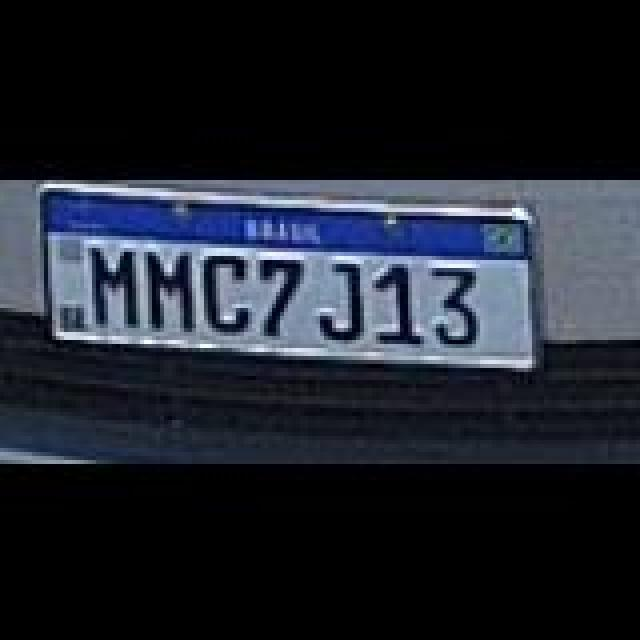1: (370, 258, 430, 342)
3: (426, 264, 486, 344)
7: (256, 256, 312, 336)
C: (196, 250, 260, 334)
J: (310, 254, 370, 338)
M: (140, 246, 204, 330), (86, 240, 146, 328)
